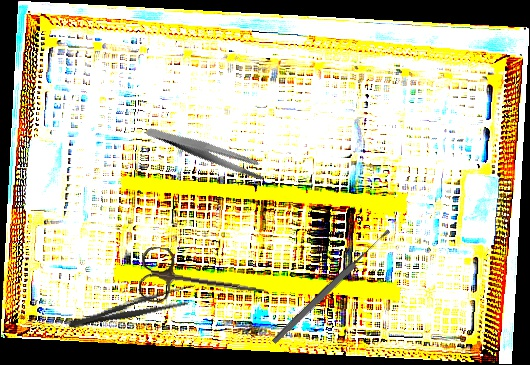Dressing Forceps: (145, 99, 269, 204), (66, 281, 200, 337)
Iris Scissors: (137, 245, 270, 316)
Surgical Spoon: (270, 227, 393, 346)
